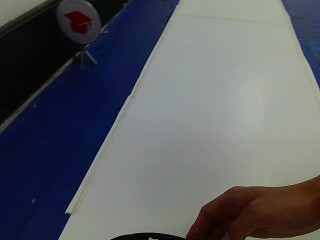school: (52, 0, 97, 47)
